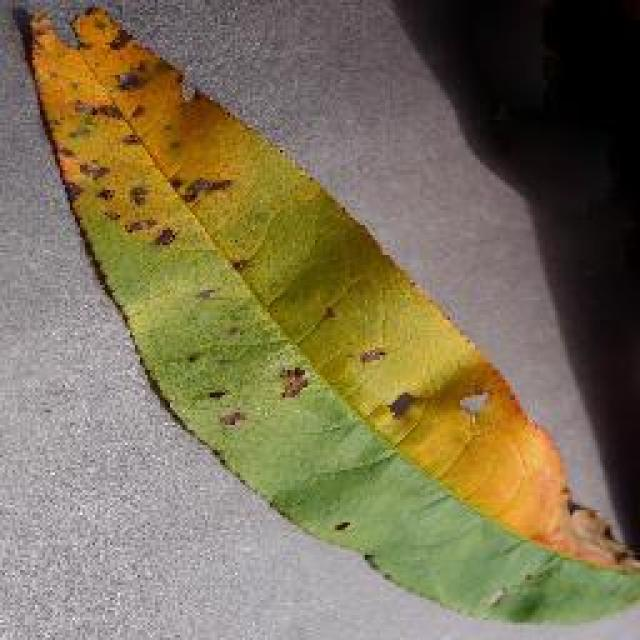Peach_Bacterial_Spot: (41, 30, 382, 428)
